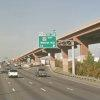Bridge: (14, 18, 95, 67)
